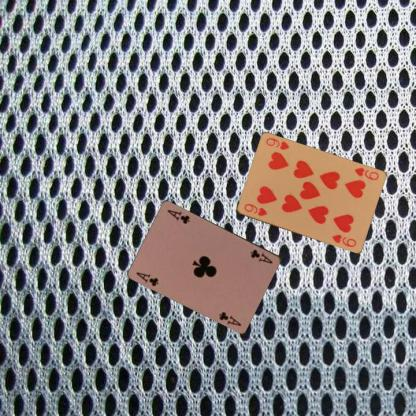9h: (350, 166, 380, 182), (242, 201, 268, 218)
Ac: (134, 269, 160, 288), (248, 246, 274, 264)
